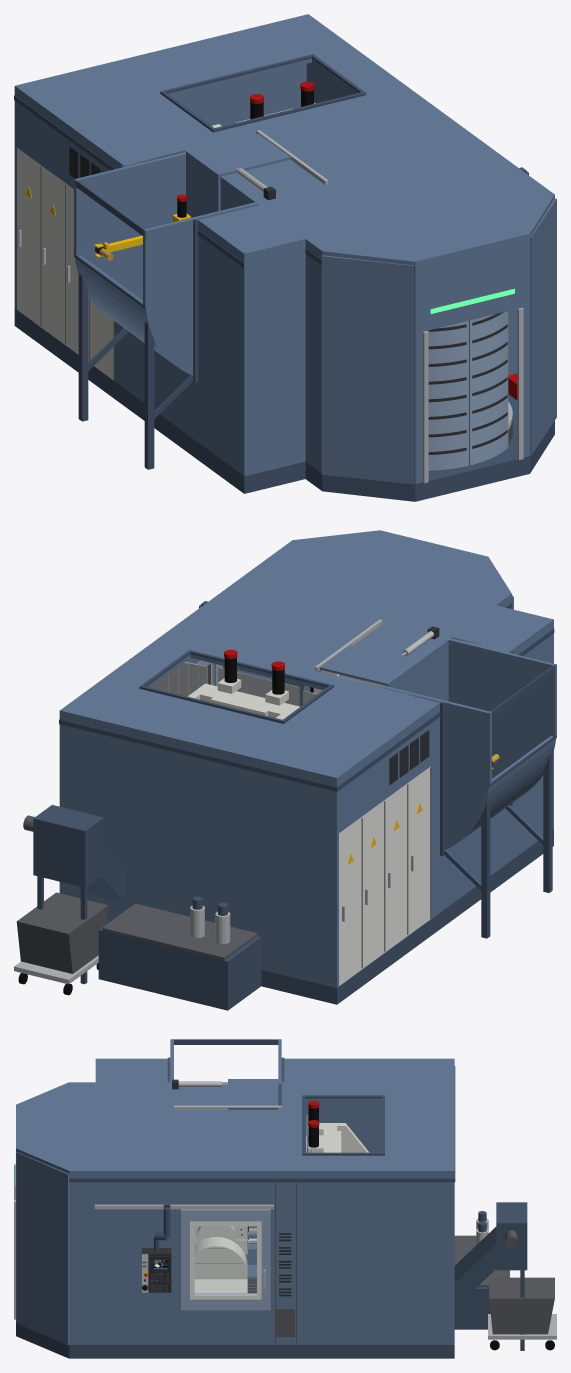
File: hmc_x1000_5ax_blue_right.glb
The picture shows the model from 3 angles, top to bottom: view 1: azimuth 30°, elevation 25°; view 2: azimuth 150°, elevation 25°; view 3: azimuth 270°, elevation 25°; orthographic projection. The views are drawn at different scales.
Parts seen in each view (by area): view 1: enclosure__fms_blue, apc_housing__fms_blue, tc_box__fms_blue, electrical_cabinet__hmc_white, enclosure__fms_blue_dk, apc_housing__fms_blue_dk, apc_door_left__door_blue, apc_door_right__door_blue, tc_box__fms_blue_dk, tc_door__fms_blue, apc_housing__steel, apc_door_left__anthracite (+4 smaller); view 2: enclosure__fms_blue, tc_box__fms_blue, chip_coolant__fms_blue_dk, electrical_cabinet__hmc_white, enclosure__fms_blue_dk, apc_housing__fms_blue, chip_cart__steel_dark, tc_box__fms_blue_dk, chip_coolant__anthracite_lt, tc_door__fms_blue, column__struct_grey, electrical_cabinet__anthracite_lt (+6 smaller); view 3: enclosure__fms_blue, apc_housing__fms_blue, enclosure__fms_blue_dk, chip_coolant__fms_blue_dk, operator_door__glass_clear, operator_door__door_blue, chip_cart__steel_dark, table__struct_grey, enclosure__steel, operator_door__hmc_white, tc_door__fms_blue, column__struct_grey (+10 smaller).
Boxes of the visible parts, x1,y1,x2,y2 form: enclosure__fms_blue: (14,14,537,476); apc_housing__fms_blue: (305,182,556,484); tc_box__fms_blue: (74,152,257,375); electrical_cabinet__hmc_white: (17,148,113,380); enclosure__fms_blue_dk: (14,54,366,493); apc_housing__fms_blue_dk: (305,248,554,501); apc_door_left__door_blue: (428,320,468,470); apc_door_right__door_blue: (469,311,508,465); tc_box__fms_blue_dk: (74,179,193,469); tc_door__fms_blue: (186,133,290,217); apc_housing__steel: (423,307,523,483); apc_door_left__anthracite: (428,324,466,454); enclosure__fms_blue: (59,552,553,987); tc_box__fms_blue: (384,638,556,849); chip_coolant__fms_blue_dk: (33,805,261,1010); electrical_cabinet__hmc_white: (339,766,430,985); enclosure__fms_blue_dk: (59,628,554,1004); apc_housing__fms_blue: (277,530,513,691); chip_cart__steel_dark: (16,892,108,973); tc_box__fms_blue_dk: (444,665,556,938); chip_coolant__anthracite_lt: (102,903,257,960); tc_door__fms_blue: (319,645,418,693); column__struct_grey: (188,678,299,719); electrical_cabinet__anthracite_lt: (361,767,431,968); enclosure__fms_blue: (95,1058,454,1344); apc_housing__fms_blue: (16,1082,95,1345); enclosure__fms_blue_dk: (95,1057,455,1358); chip_coolant__fms_blue_dk: (454,1202,527,1350); operator_door__glass_clear: (195,1227,256,1293); operator_door__door_blue: (181,1209,270,1310); chip_cart__steel_dark: (489,1277,554,1334); table__struct_grey: (194,1226,247,1293); enclosure__steel: (94,1081,281,1209); operator_door__hmc_white: (190,1221,261,1299); tc_door__fms_blue: (228,1079,278,1109); column__struct_grey: (308,1123,368,1152).
Bounding box in the file's own units: 5.06 × 3.22 × 7.86.
22 materials, 2 textured.
